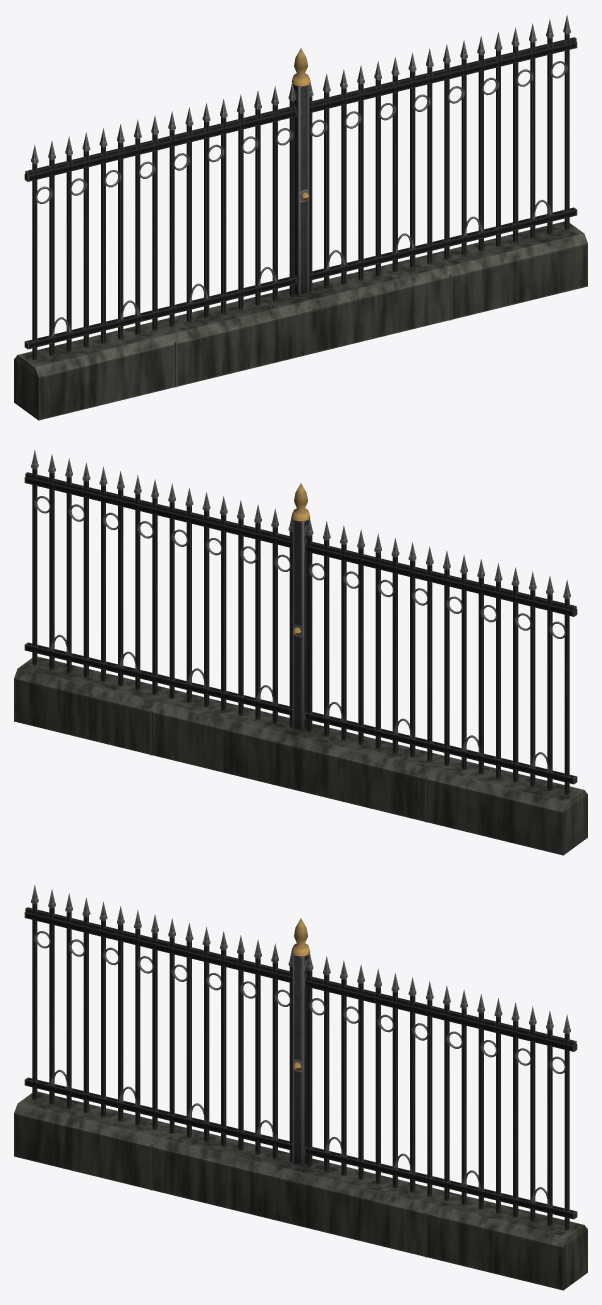
Rendered from IronRailing.fbx.
3 renders of one model, top to bottom at view 1: azimuth 30°, elevation 25°; view 2: azimuth 150°, elevation 25°; view 3: azimuth 330°, elevation 25°, orthographic.
Visible parts, largest first — view 1: IronRailing; view 2: IronRailing; view 3: IronRailing.
Boxes of the visible parts, bbox=[...] form: IronRailing: bbox=[14, 15, 587, 420]; IronRailing: bbox=[14, 450, 587, 855]; IronRailing: bbox=[14, 885, 587, 1290].
Bounding box in the file's own units: 800 × 413 × 64.
